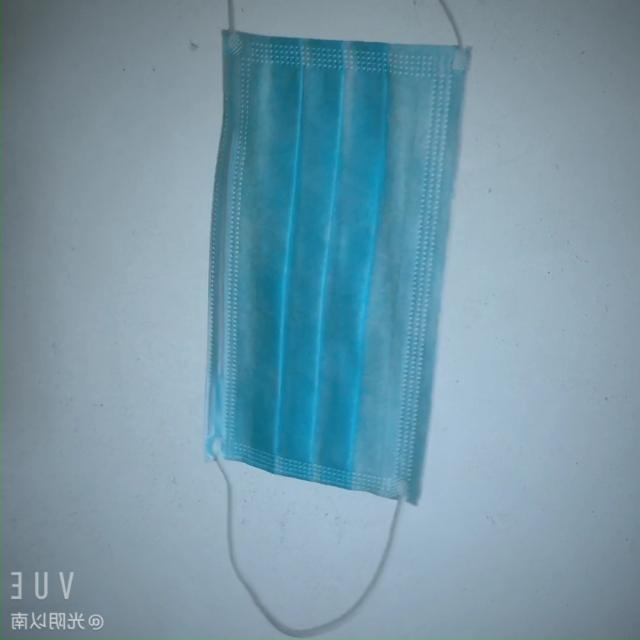face mask: (203, 18, 473, 512)
